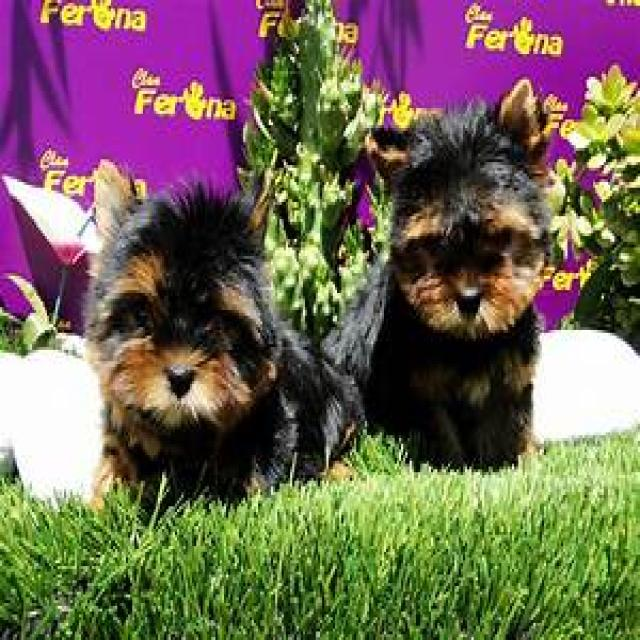dog: (322, 82, 557, 472), (83, 188, 365, 512)
